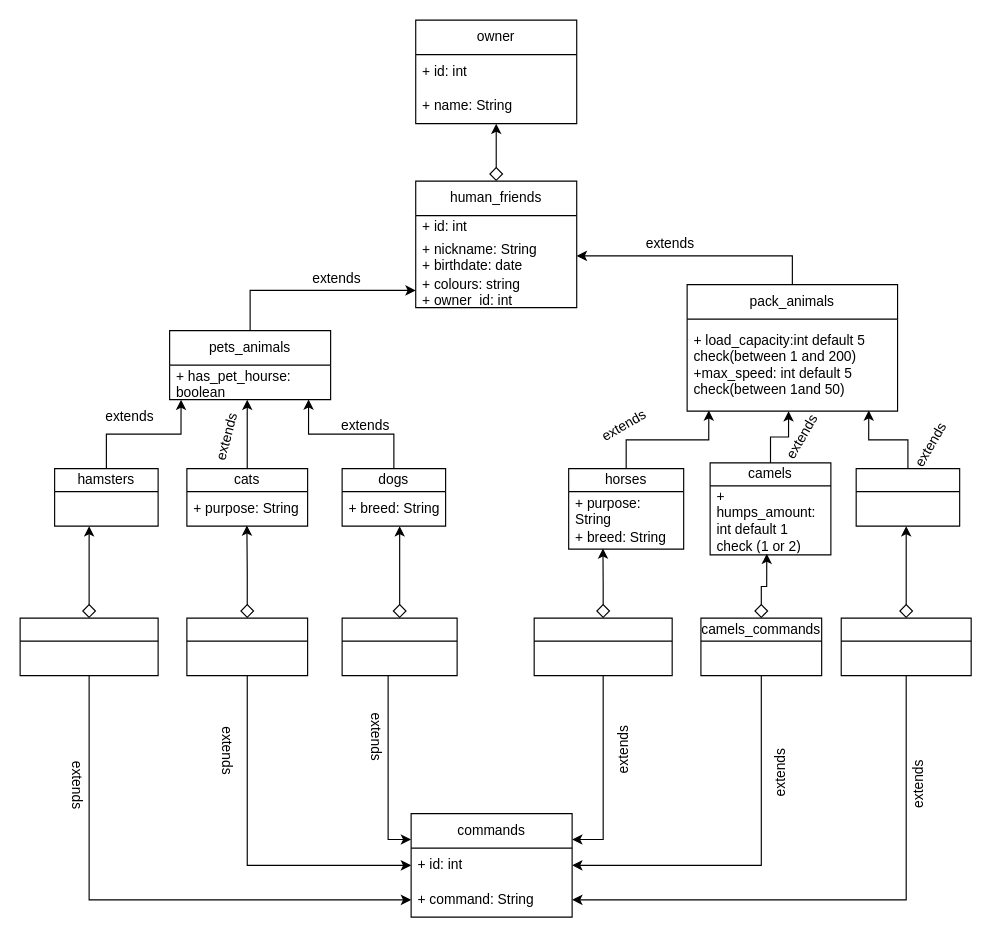
Image size: 991x937. Some labels were removed from this diagram. The shapes that lost their labels are listed below. From the top down, each one's centre as x and y in pixels, then its label:
At (907,496): "donkeys".
At (88,646): "hamsters_commands".
At (247,646): "cats_commands".
At (399,646): "dogs_commands".
At (602,646): "horses_commands".
At (905,646): "donkeys_commands".
